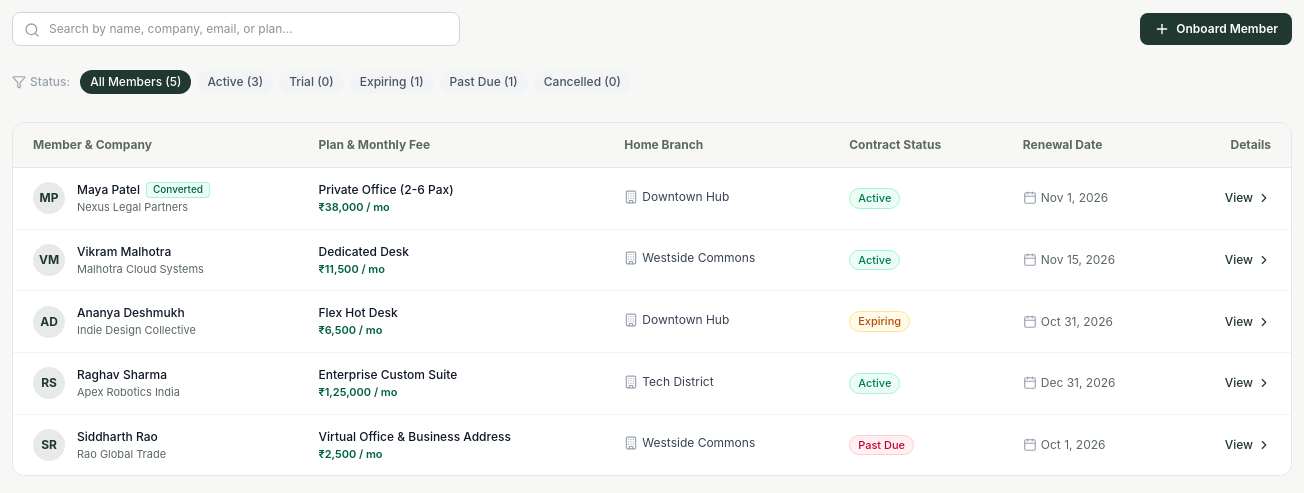
Test: MembersDirectory Component › filters members based on search input
The width and height of the screenshot is (1304, 493).
Type "Malhotra" into the field with placeholder "Search by name, company, email, or plan..." at (236, 29), box x1=12 y1=12 x2=460 y2=46
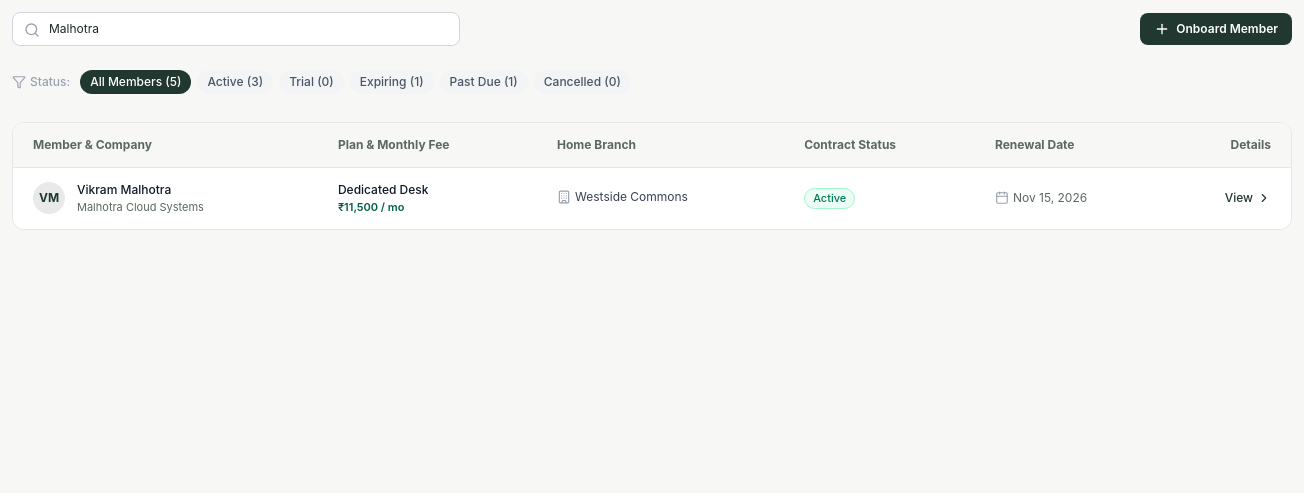
Expected: the text "Vikram Malhotra" is shown, x1=77 y1=182 x2=171 y2=197
Now the text "Maya Patel" is gone
